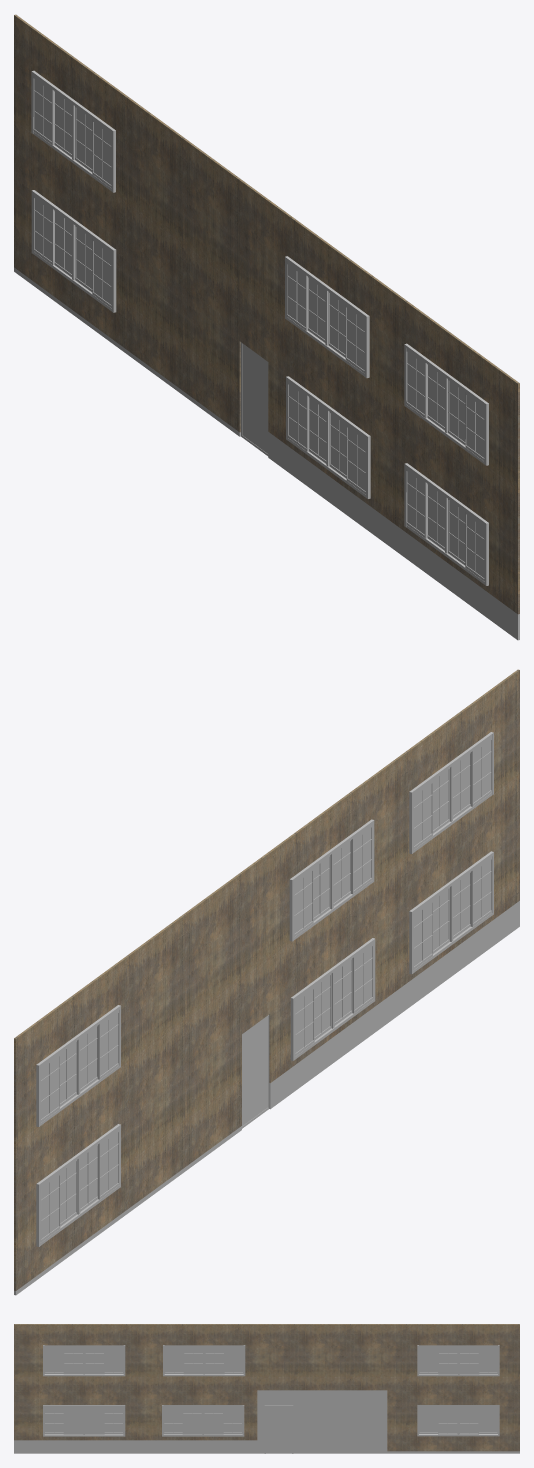
Rendered from Factory_Small_04c.fbx.
The picture shows the model from 3 angles, top to bottom: view 1: azimuth 30°, elevation 25°; view 2: azimuth 150°, elevation 25°; view 3: azimuth 270°, elevation 25°; orthographic projection. The views are drawn at different scales.
Visible parts, largest first — view 1: Factory_Small_04c; view 2: Factory_Small_04c; view 3: Factory_Small_04c.
Boxes of the visible parts, box(x1,y1,x2,y2) form: Factory_Small_04c: box(14, 14, 519, 640); Factory_Small_04c: box(14, 669, 519, 1295); Factory_Small_04c: box(14, 1324, 519, 1453).
Bounding box in the file's own units: 0.1459 × 5.9 × 21.
